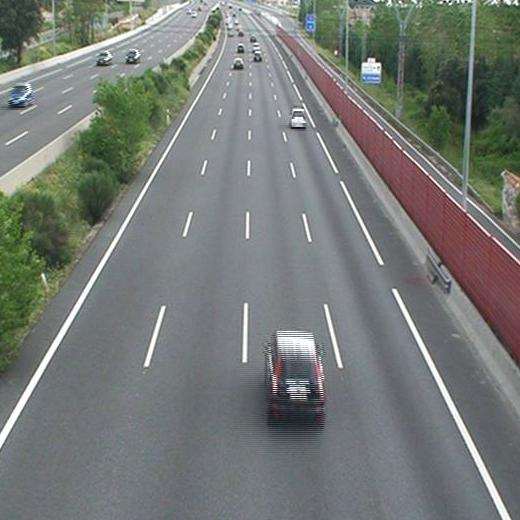car: (264, 332, 324, 412), (290, 108, 306, 127), (233, 58, 244, 69), (253, 52, 262, 61), (237, 45, 244, 53)
